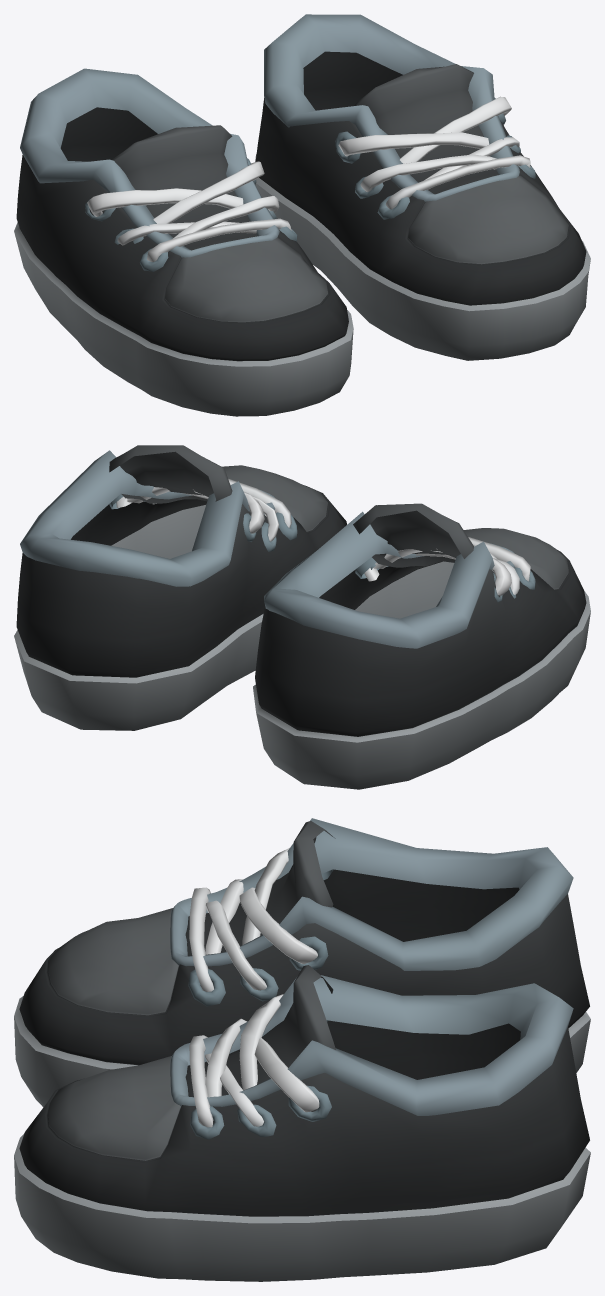
Rendered from Shoe_Sneakers_04.glb.
3 renders of one model, top to bottom at view 1: azimuth 30°, elevation 25°; view 2: azimuth 150°, elevation 25°; view 3: azimuth 270°, elevation 25°, orthographic. The views are drawn at different scales.
Parts seen in each view (by area): view 1: Shoe_Sneakers_04; view 2: Shoe_Sneakers_04; view 3: Shoe_Sneakers_04.
Boxes of the visible parts, left/top/right/bottom form: Shoe_Sneakers_04: left=14, top=14, right=590, bottom=416; Shoe_Sneakers_04: left=14, top=445, right=590, bottom=789; Shoe_Sneakers_04: left=14, top=818, right=590, bottom=1281.
Size of the model in its own units: 0.2545 by 0.1087 by 0.2308.
1 material, 1 textured.
